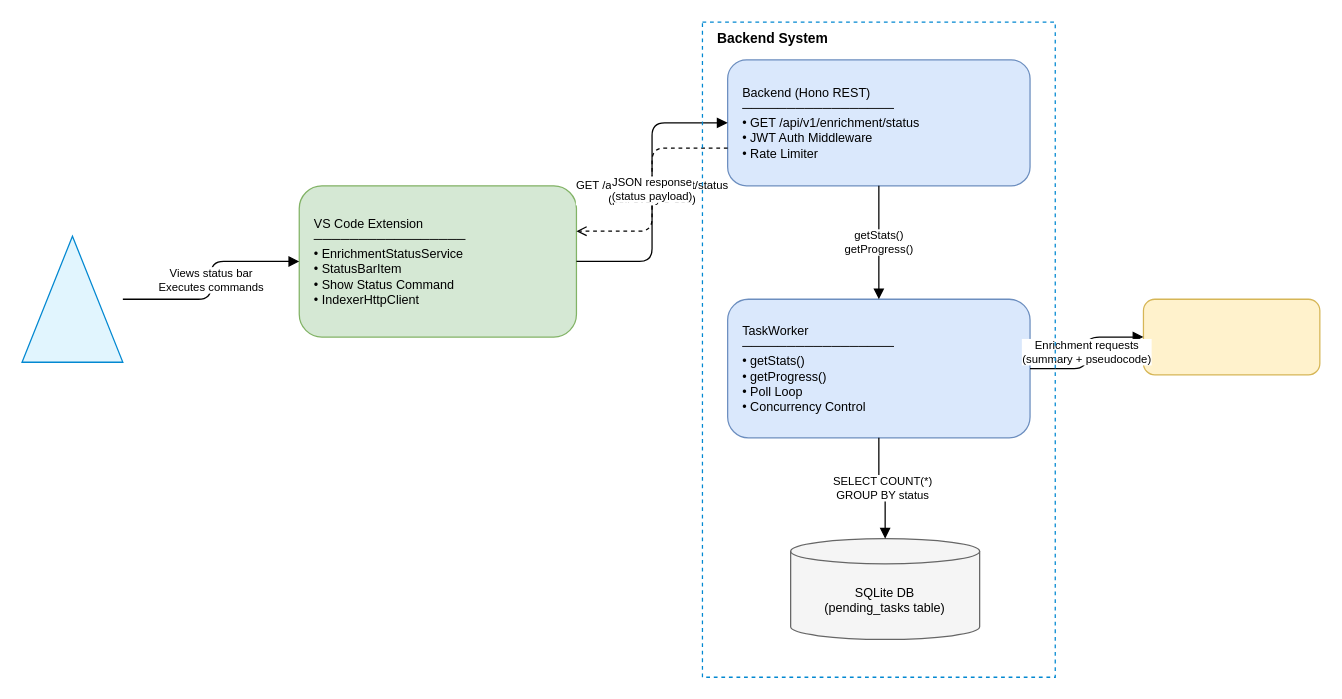
The diagram is 1342 pixels wide and 699 high, and some of its shapes have lost their labels. Each missing label, with the centre of its shape:
"Developer (VS Code User)" goes at point (72, 298).
"LLM Provider (Anthropic/OpenAI)" goes at point (1231, 336).
